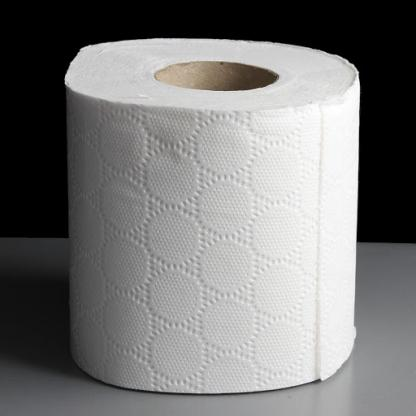tissue: (52, 32, 377, 399)
